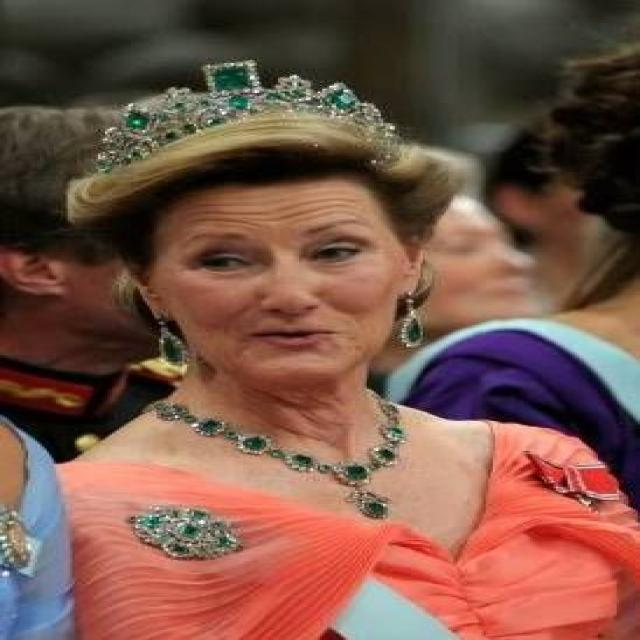Earring: (381, 270, 432, 364), (150, 300, 199, 382)
